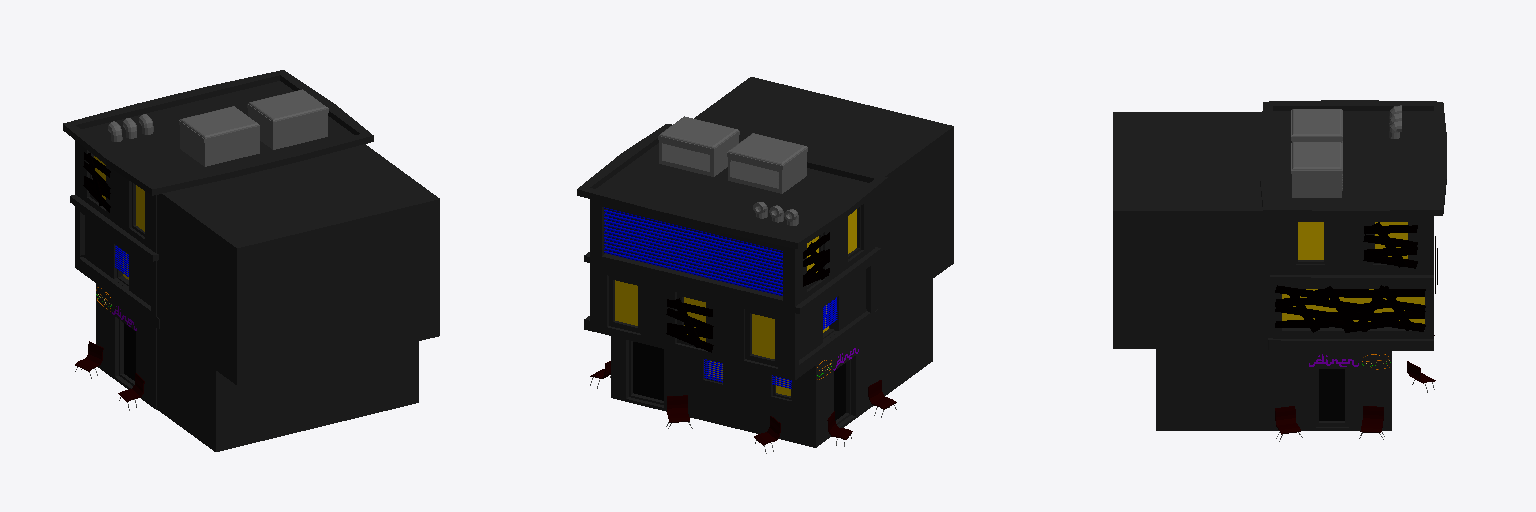
Rendered from DinerBuilding1.obj.
3 views of the same model, side by side, from view 1: azimuth 30°, elevation 25°; view 2: azimuth 150°, elevation 25°; view 3: azimuth 270°, elevation 25° (orthographic).
Visible parts, largest first — view 1: BuildingBacking.001_Cube.044, FirstHouse.001_Cube.011, Cube.008_Cube.013, Cube.005_Cube.012, Plane.015_Plane.032; view 2: FirstHouse.001_Cube.011, BuildingBacking.001_Cube.044, BigBars.001_Vert.013, Cube.008_Cube.013, Cube.005_Cube.012, Plane.014_Plane.022, Plane.015_Plane.032, AC_Unity.003_Plane.021, AC_Unity.002_Plane.017, Chair.003_Plane.026; view 3: BuildingBacking.001_Cube.044, FirstHouse.001_Cube.011, Cube.005_Cube.012, Plane.016_Plane.033, Cube.008_Cube.013, Plane.018_Plane.024, Plane.020_Plane.034, Plane.017_Plane.023, Plane.019_Plane.025, Chair.006_Plane.029, Chair.005_Plane.028.
Boxes of the visible parts, box(x1,y1,x2,y2) form: BuildingBacking.001_Cube.044: box(157, 144, 439, 451); FirstHouse.001_Cube.011: box(63, 70, 373, 409); Cube.008_Cube.013: box(179, 106, 259, 166); Cube.005_Cube.012: box(247, 89, 328, 149); Plane.015_Plane.032: box(83, 152, 110, 212); FirstHouse.001_Cube.011: box(577, 124, 887, 447); BuildingBacking.001_Cube.044: box(694, 77, 953, 395); BigBars.001_Vert.013: box(604, 207, 782, 295); Cube.008_Cube.013: box(727, 133, 807, 193); Cube.005_Cube.012: box(658, 116, 739, 176); Plane.014_Plane.022: box(666, 298, 713, 352); Plane.015_Plane.032: box(803, 232, 829, 286); AC_Unity.003_Plane.021: box(730, 160, 778, 188); AC_Unity.002_Plane.017: box(662, 143, 709, 171); Chair.003_Plane.026: box(667, 395, 689, 422); BuildingBacking.001_Cube.044: box(1113, 112, 1272, 430); FirstHouse.001_Cube.011: box(1260, 100, 1446, 430); Cube.005_Cube.012: box(1291, 142, 1342, 197); Plane.016_Plane.033: box(1363, 222, 1417, 268); Cube.008_Cube.013: box(1291, 109, 1342, 142); Plane.018_Plane.024: box(1343, 285, 1397, 332); Plane.020_Plane.034: box(1275, 285, 1328, 332); Plane.017_Plane.023: box(1372, 286, 1425, 331); Plane.019_Plane.025: box(1315, 286, 1368, 331); Chair.006_Plane.029: box(1360, 406, 1383, 432); Chair.005_Plane.028: box(1275, 406, 1300, 434).
Size of the model in its own units: 12 by 11.11 by 13.37.